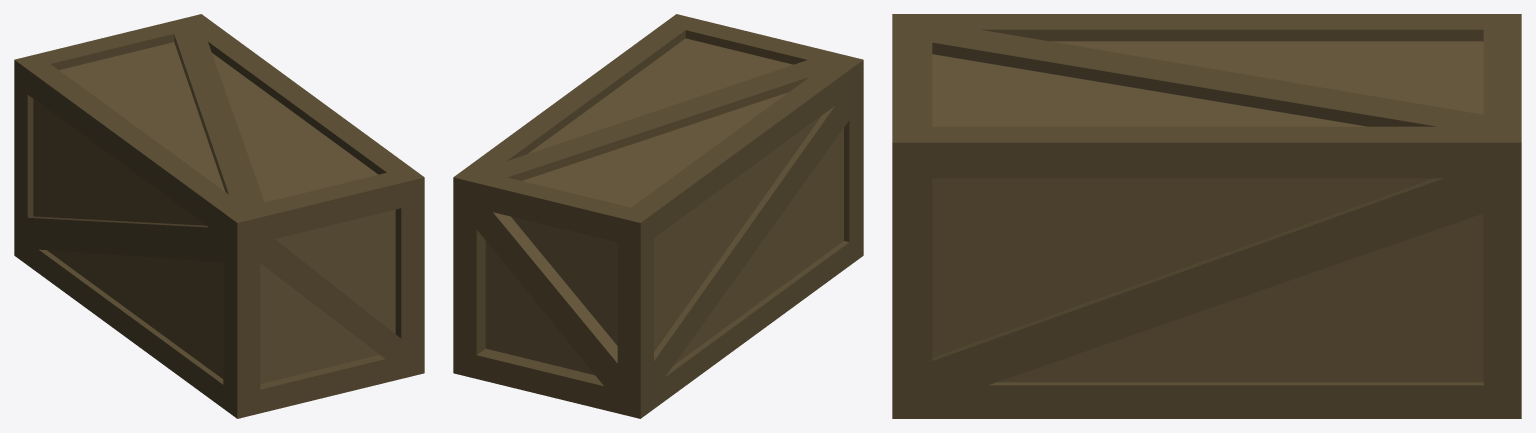
File: BIg_Box.fbx
3 renders of one model, left to right at view 1: azimuth 30°, elevation 25°; view 2: azimuth 150°, elevation 25°; view 3: azimuth 270°, elevation 25°, orthographic. The views are drawn at different scales.
Parts seen in each view (by area): view 1: pCube1; view 2: pCube1; view 3: pCube1.
Boxes of the visible parts, box(x1,y1,x2,y2) form: pCube1: box(14, 14, 424, 418); pCube1: box(453, 14, 863, 418); pCube1: box(892, 14, 1521, 418).
Bounding box in the file's own units: 7.97 × 7.97 × 16.45.
